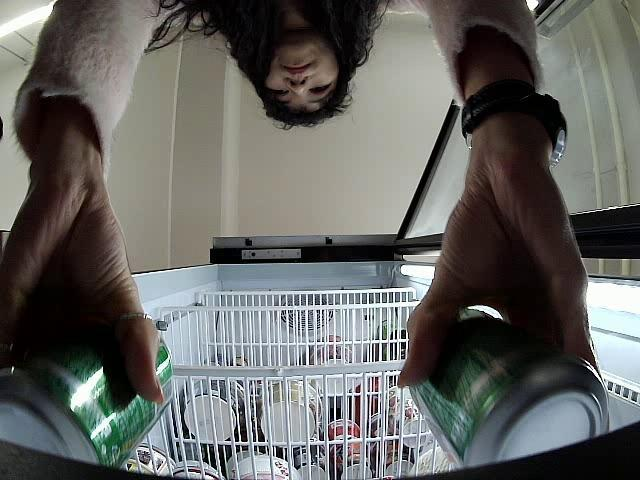12_chilsungCider: (411, 306, 607, 466), (0, 314, 174, 468)
